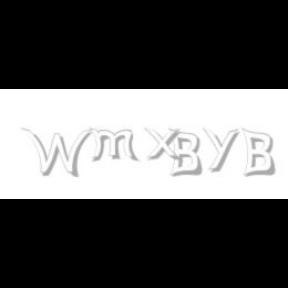B: (168, 128, 202, 178), (241, 128, 275, 178)
W: (20, 128, 92, 178)
m: (88, 128, 140, 162)
x: (144, 128, 186, 162)
y: (203, 128, 243, 172)
